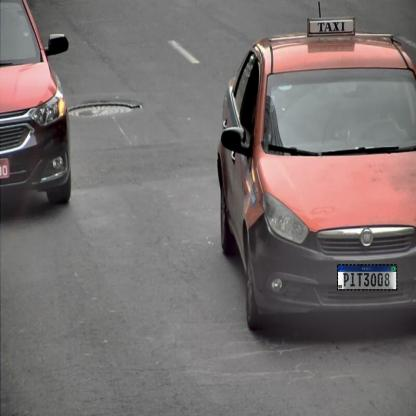PlacaM: (337, 264, 397, 291)
